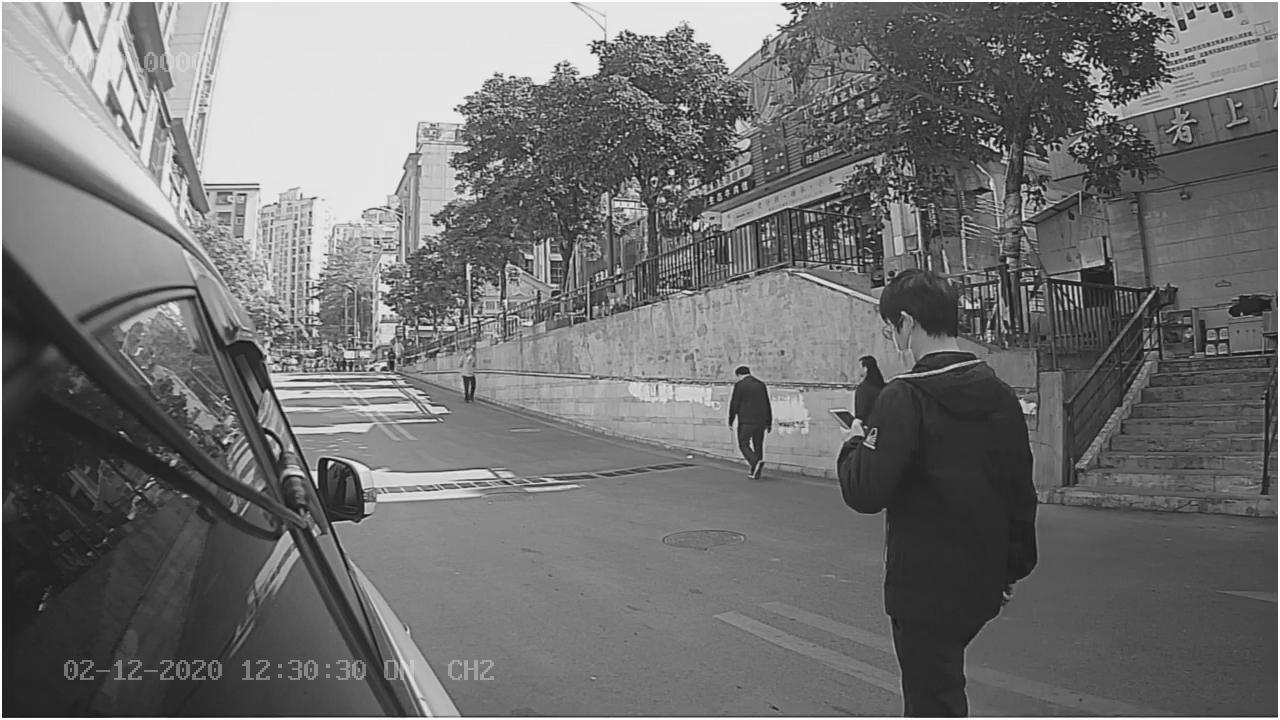person: (833, 267, 1043, 484), (702, 354, 797, 505)
